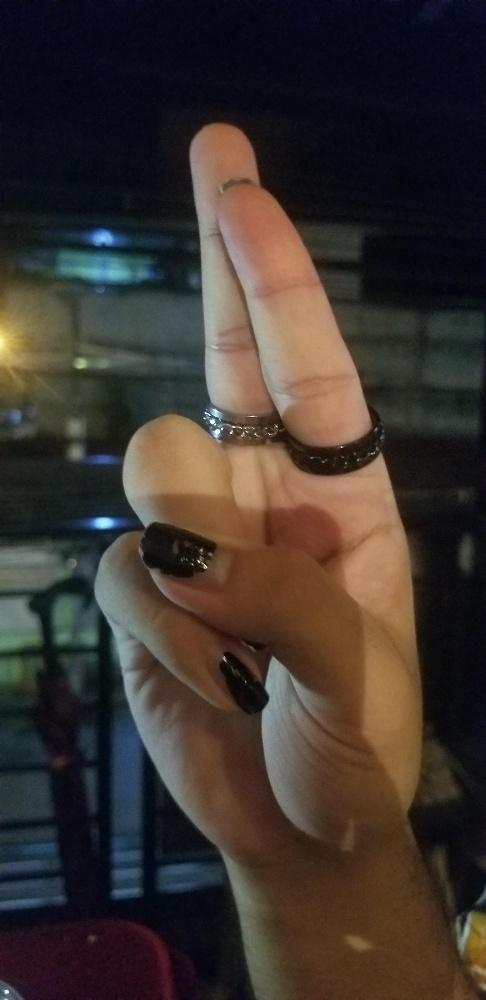r: (96, 121, 422, 863)
